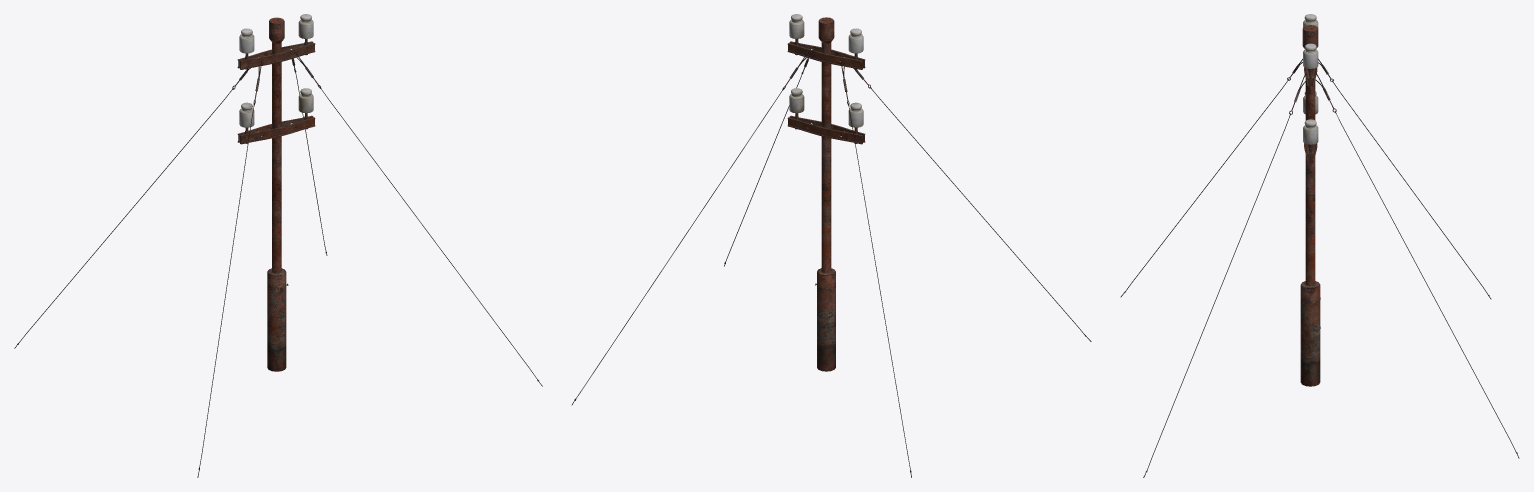
Rendered from rooftop_utility_pole.glb.
3 views of the same model, side by side, from view 1: azimuth 30°, elevation 25°; view 2: azimuth 150°, elevation 25°; view 3: azimuth 270°, elevation 25° (orthographic). The views are drawn at different scales.
Visible parts, largest first — view 1: Main, String2, TopBar, BottomBar; view 2: Main, String2, BottomBar, TopBar; view 3: Main, String2, TopRightPole, BottomRightPole.
Part boxes in pixels (left/top/right/bottom): Main: left=267, top=17, right=288, bottom=371; String2: left=17, top=52, right=538, bottom=469; TopBar: left=237, top=41, right=315, bottom=69; BottomBar: left=237, top=115, right=315, bottom=144; Main: left=815, top=17, right=835, bottom=371; String2: left=574, top=52, right=1086, bottom=472; BottomBar: left=787, top=115, right=865, bottom=144; TopBar: left=787, top=41, right=865, bottom=69; Main: left=1300, top=25, right=1320, bottom=386; String2: left=1124, top=59, right=1516, bottom=472; TopRightPole: left=1303, top=43, right=1318, bottom=85; BottomRightPole: left=1303, top=119, right=1318, bottom=161.
Bounding box in the file's own units: 1940 × 1815 × 1833.
Materials: 1 (1 with a texture image).
